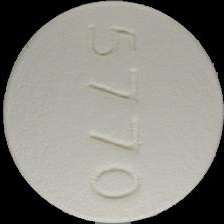49349-931: (0, 0, 224, 224)
